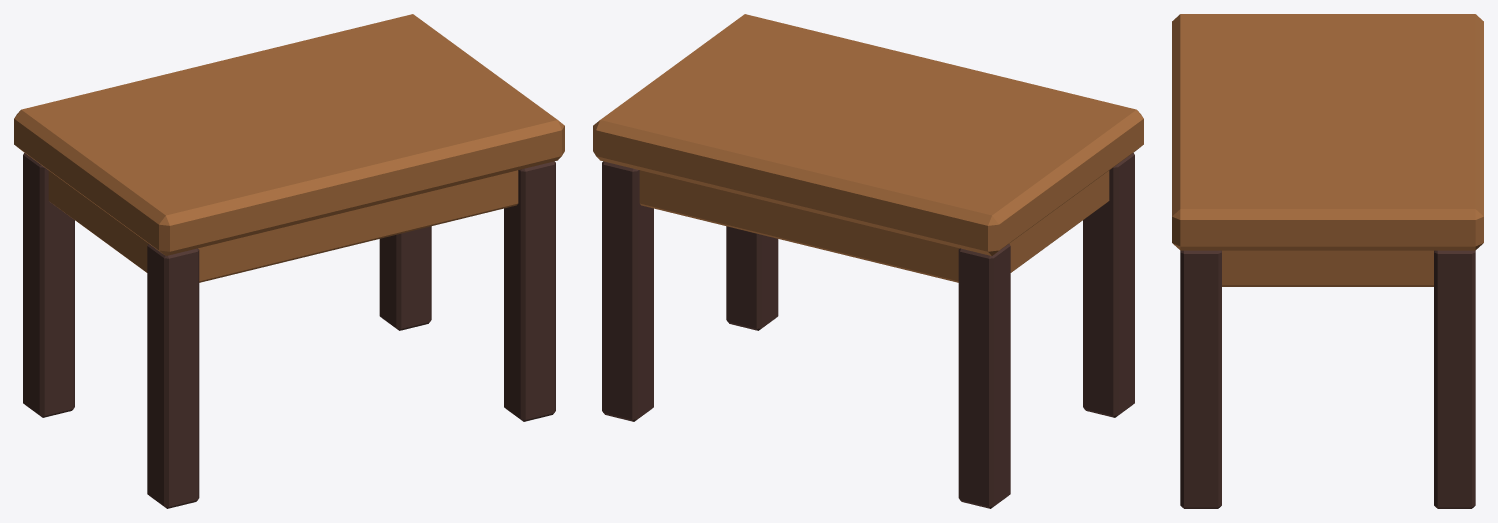
File: table_fer.glb
3 views of the same model, side by side, from view 1: azimuth 30°, elevation 25°; view 2: azimuth 150°, elevation 25°; view 3: azimuth 270°, elevation 25° (orthographic). The views are drawn at different scales.
Visible parts, largest first — view 1: table_fer; view 2: table_fer; view 3: table_fer.
Boxes of the visible parts, x1,y1,x2,y2 form: table_fer: [14, 14, 564, 508]; table_fer: [593, 14, 1143, 508]; table_fer: [1172, 14, 1483, 508].
Size of the model in its own units: 1.15 by 0.8 by 0.75.
Materials: 1 (1 with a texture image).
